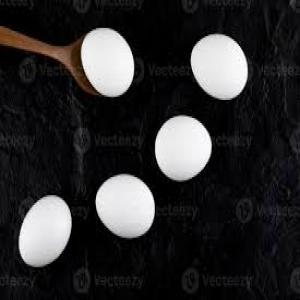Egg: (190, 32, 249, 102), (18, 195, 72, 269), (156, 113, 212, 182), (96, 174, 156, 238), (82, 28, 136, 98)
